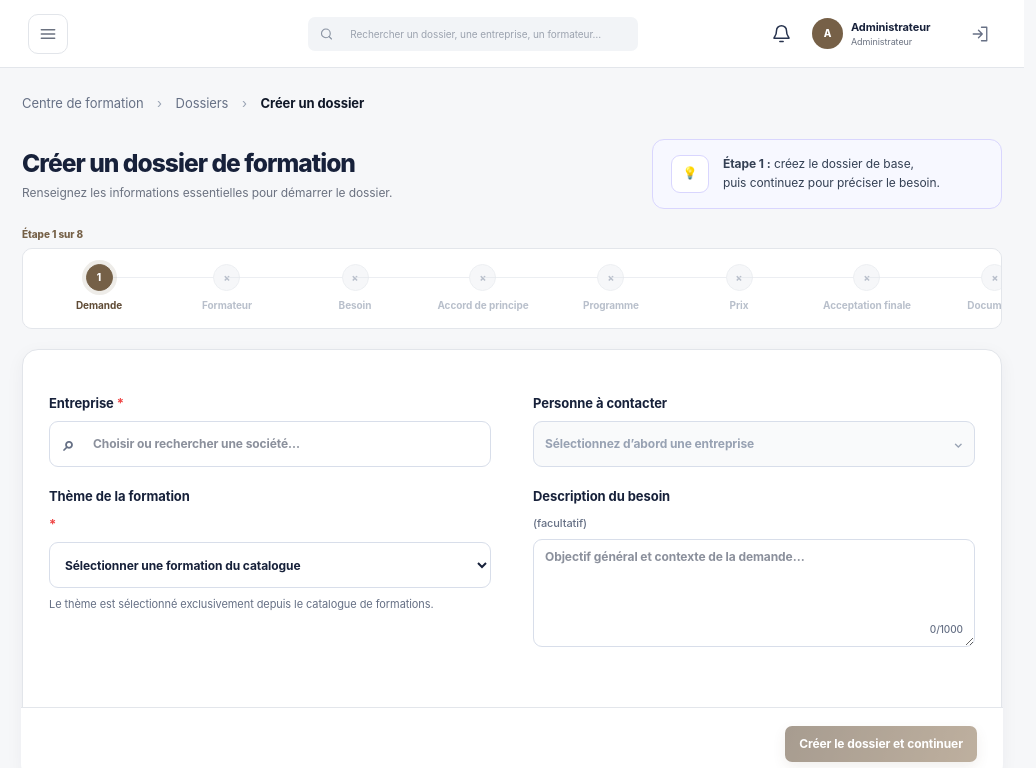
Gestion des dossiers › affiche les sociétés existantes dès l’ouverture du champ entreprise
What coordinates should you click on to do the following:
click the dropdown labelled "Entreprise *"
I would click on:
 (270, 444)
Its box is top-left (49, 421), bottom-right (491, 467).
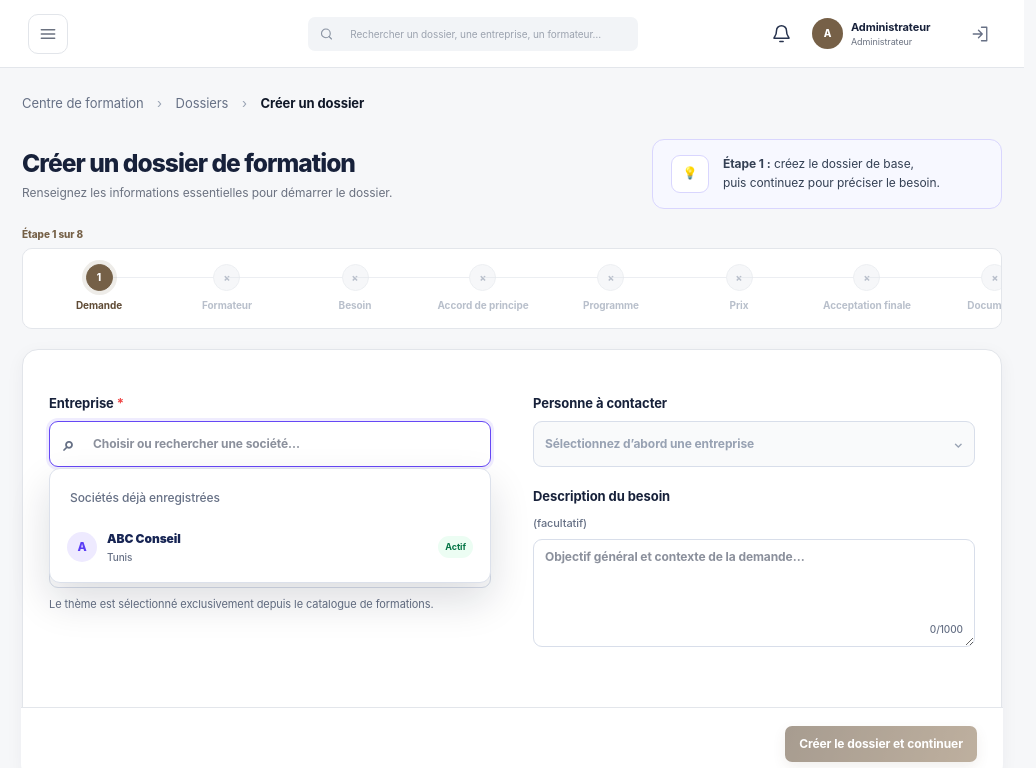
Expected: the text "Sociétés déjà enregistrées" is shown, top-left (70, 490), bottom-right (220, 504)
Expected: the option "A ABC Conseil Tunis Actif" is shown, top-left (57, 520), bottom-right (483, 574)
